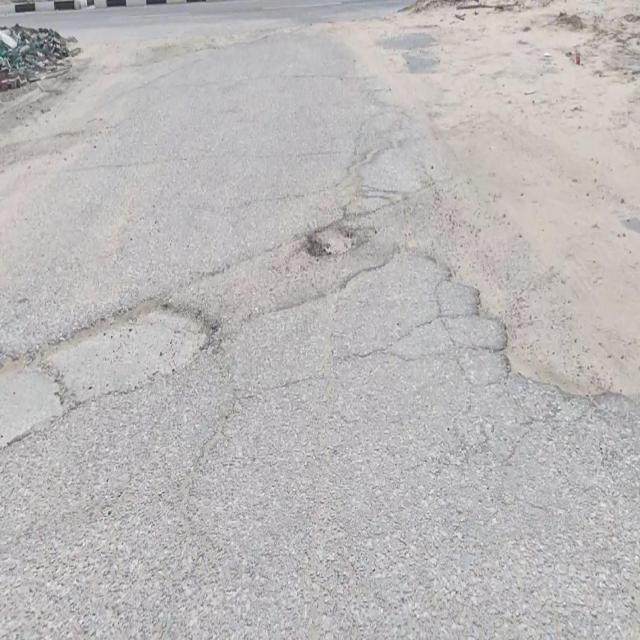Potholes: (46, 298, 215, 414), (480, 295, 637, 384), (306, 223, 372, 263)
